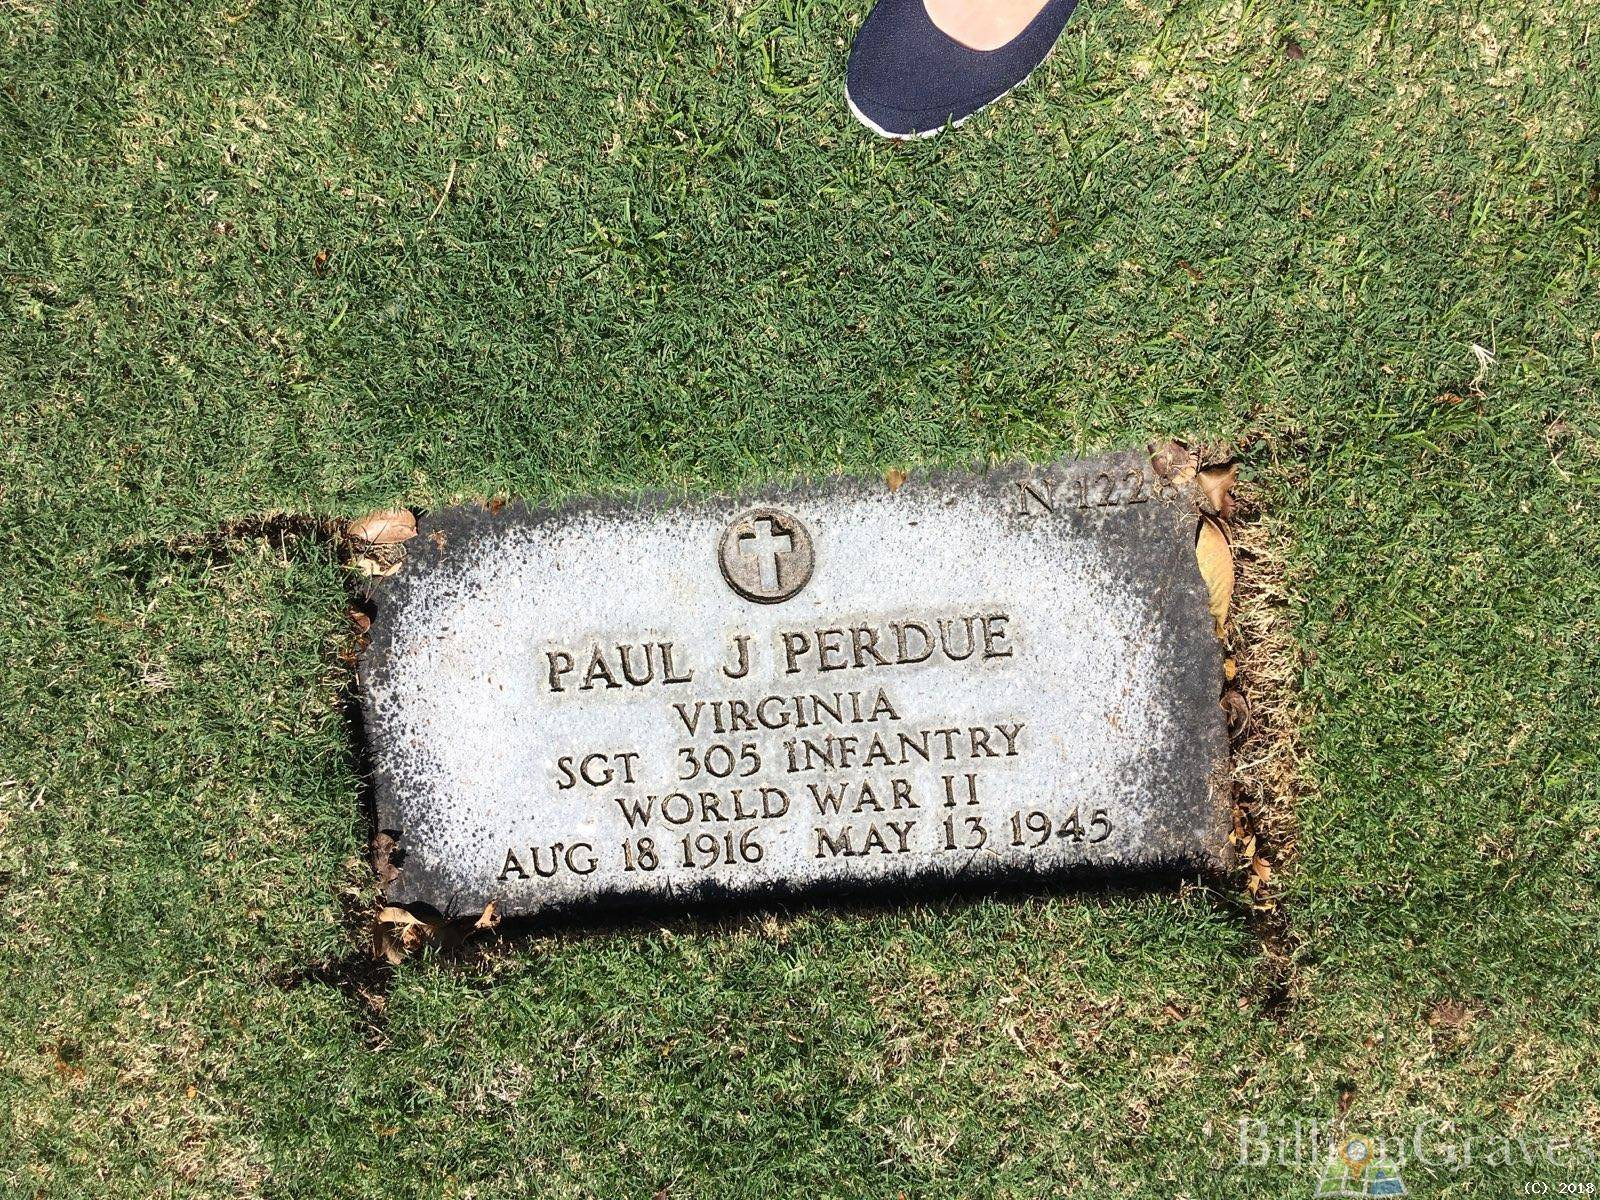flat: (333, 407, 1255, 1010)
